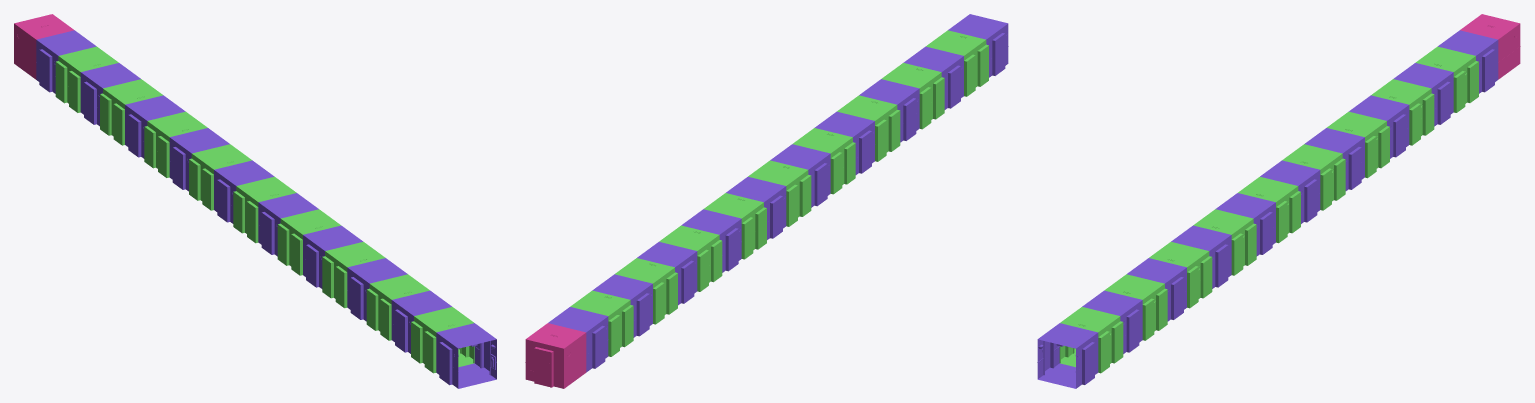
Rendered from Hallwayyyy3.fbx.
The picture shows the model from 3 angles, left to right: view 1: azimuth 30°, elevation 25°; view 2: azimuth 150°, elevation 25°; view 3: azimuth 330°, elevation 25°; orthographic projection.
Visible parts, largest first — view 1: Hall, Hall 2, Hall End; view 2: Hall 2, Hall, Hall End; view 3: Hall, Hall 2, Hall End.
Boxes of the visible parts, x1,y1,x2,y2 form: Hall: (36,30,496,388); Hall 2: (55,46,474,373); Hall End: (14,14,74,79); Hall 2: (570,30,988,356); Hall: (548,14,1008,372); Hall End: (525,323,586,388); Hall: (1037,30,1498,388); Hall 2: (1059,46,1478,373); Hall End: (1460,14,1520,79).
Bounding box in the file's own units: 230 × 201 × 4017.
